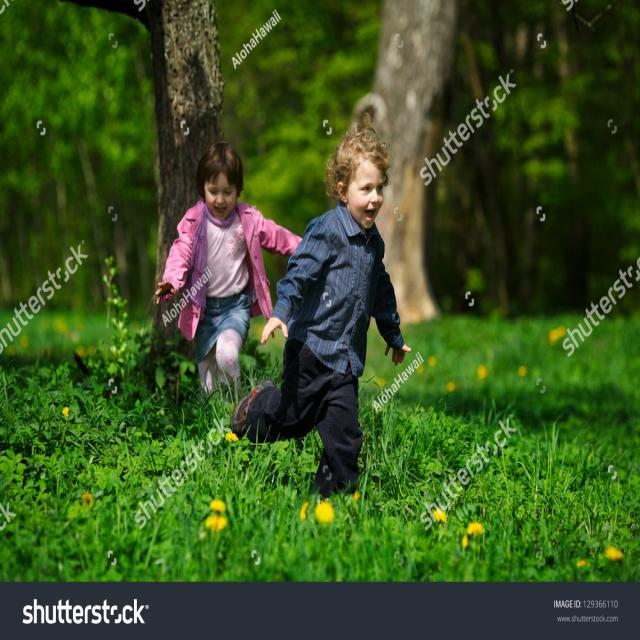Person: (234, 112, 412, 494), (156, 142, 304, 386)
